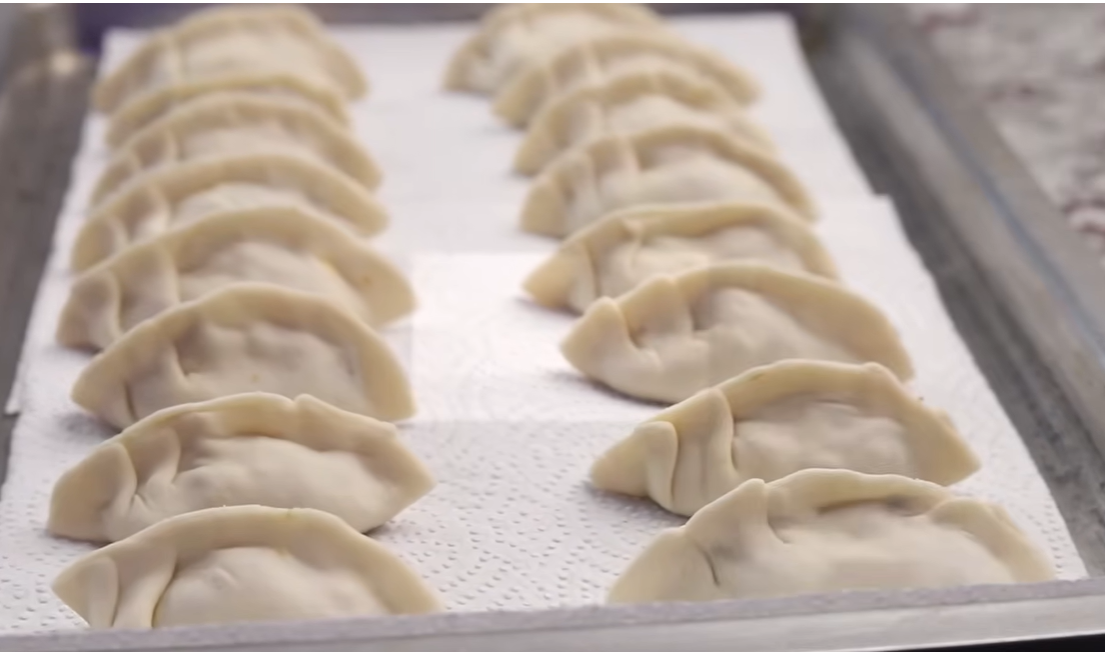momo: (610, 471, 1063, 597), (43, 403, 444, 536), (50, 503, 446, 626), (591, 357, 974, 481), (70, 293, 423, 417), (559, 266, 913, 373), (70, 210, 439, 311), (520, 207, 833, 307), (76, 7, 370, 101), (83, 99, 373, 189), (504, 39, 744, 130), (86, 147, 386, 217), (517, 131, 813, 201), (441, 7, 679, 67)
